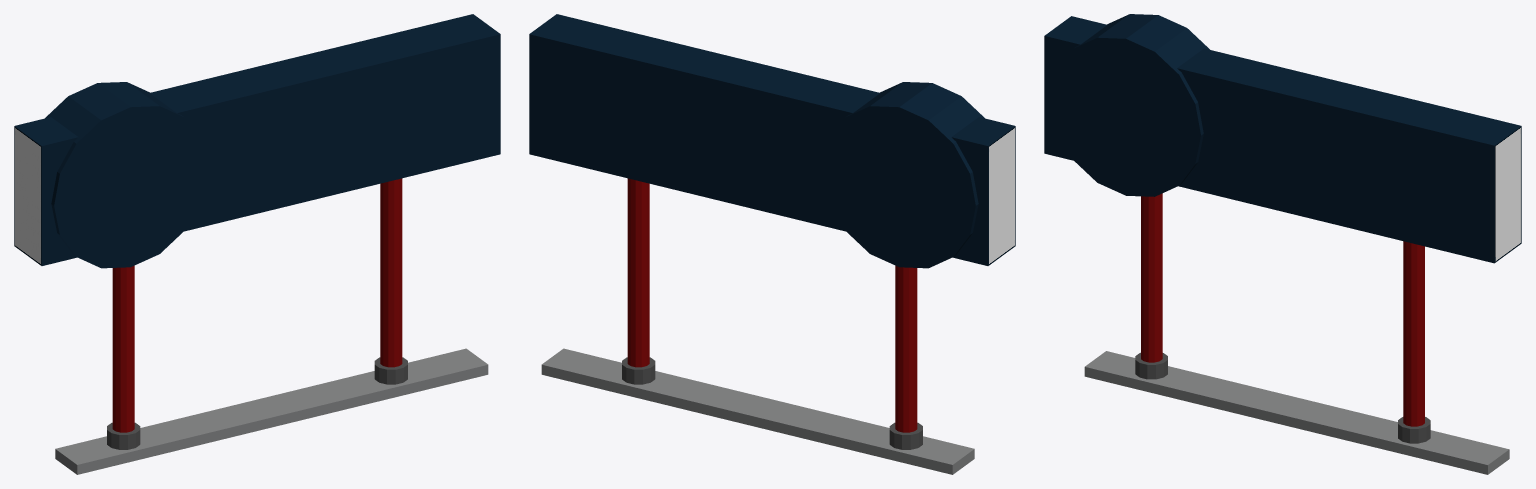
File: beijing_sis_a.obj
3 views of the same model, side by side, from view 1: azimuth 30°, elevation 25°; view 2: azimuth 150°, elevation 25°; view 3: azimuth 330°, elevation 25° (orthographic).
Parts seen in each view (by area): view 1: cuboid, cylinder, cube; view 2: cuboid, cylinder, cube; view 3: cuboid, cylinder, cube.
Part boxes in pixels (box(x1,y1,x2,y2)): cuboid: box(14, 14, 500, 265); cylinder: box(45, 82, 407, 449); cube: box(55, 348, 488, 474); cuboid: box(529, 14, 1015, 265); cylinder: box(622, 82, 984, 449); cube: box(541, 348, 974, 474); cuboid: box(1044, 16, 1521, 263); cylinder: box(1051, 14, 1430, 443); cube: box(1084, 351, 1509, 474).
Size of the model in its own units: 3 by 2.25 by 0.375.
Materials: 5 (5 with a texture image).
